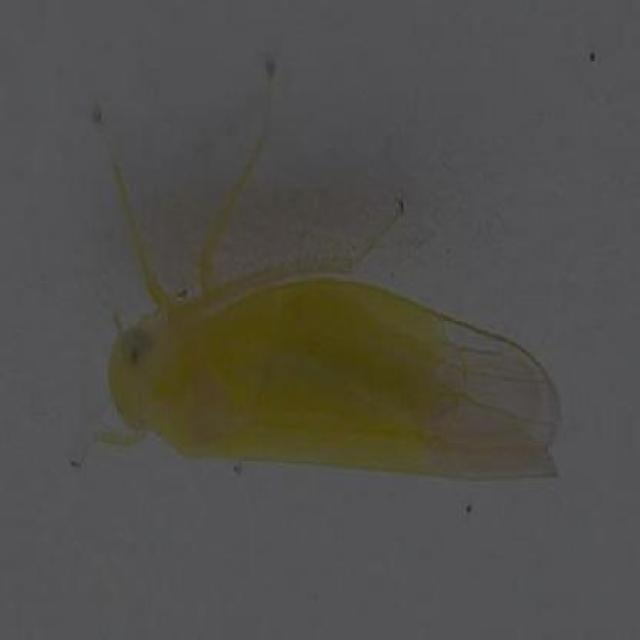green-leafhopper: (92, 253, 571, 501)
